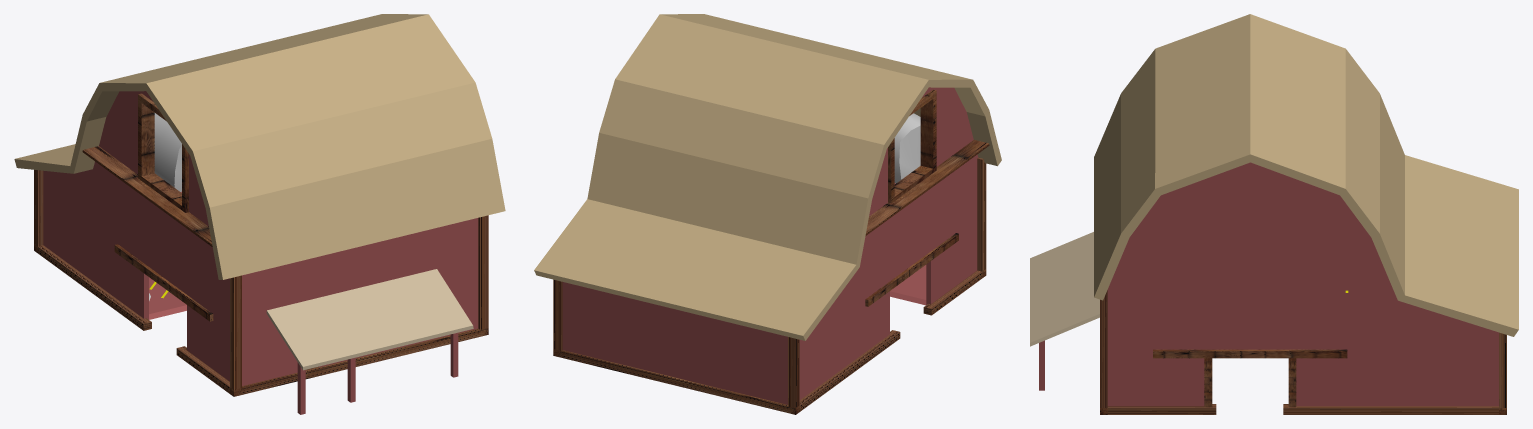
The model's file is ferm_ver_002.fbx.
The picture shows the model from 3 angles, left to right: view 1: azimuth 30°, elevation 25°; view 2: azimuth 150°, elevation 25°; view 3: azimuth 270°, elevation 25°; orthographic projection. The views are drawn at different scales.
Visible parts, largest first — view 1: ferm_ver_001:group19; view 2: ferm_ver_001:group19; view 3: ferm_ver_001:group19.
Boxes of the visible parts, x1,y1,x2,y2 form: ferm_ver_001:group19: [14, 14, 505, 414]; ferm_ver_001:group19: [534, 14, 1001, 414]; ferm_ver_001:group19: [1030, 14, 1518, 414].
Size of the model in its own units: 178 by 162 by 263.
